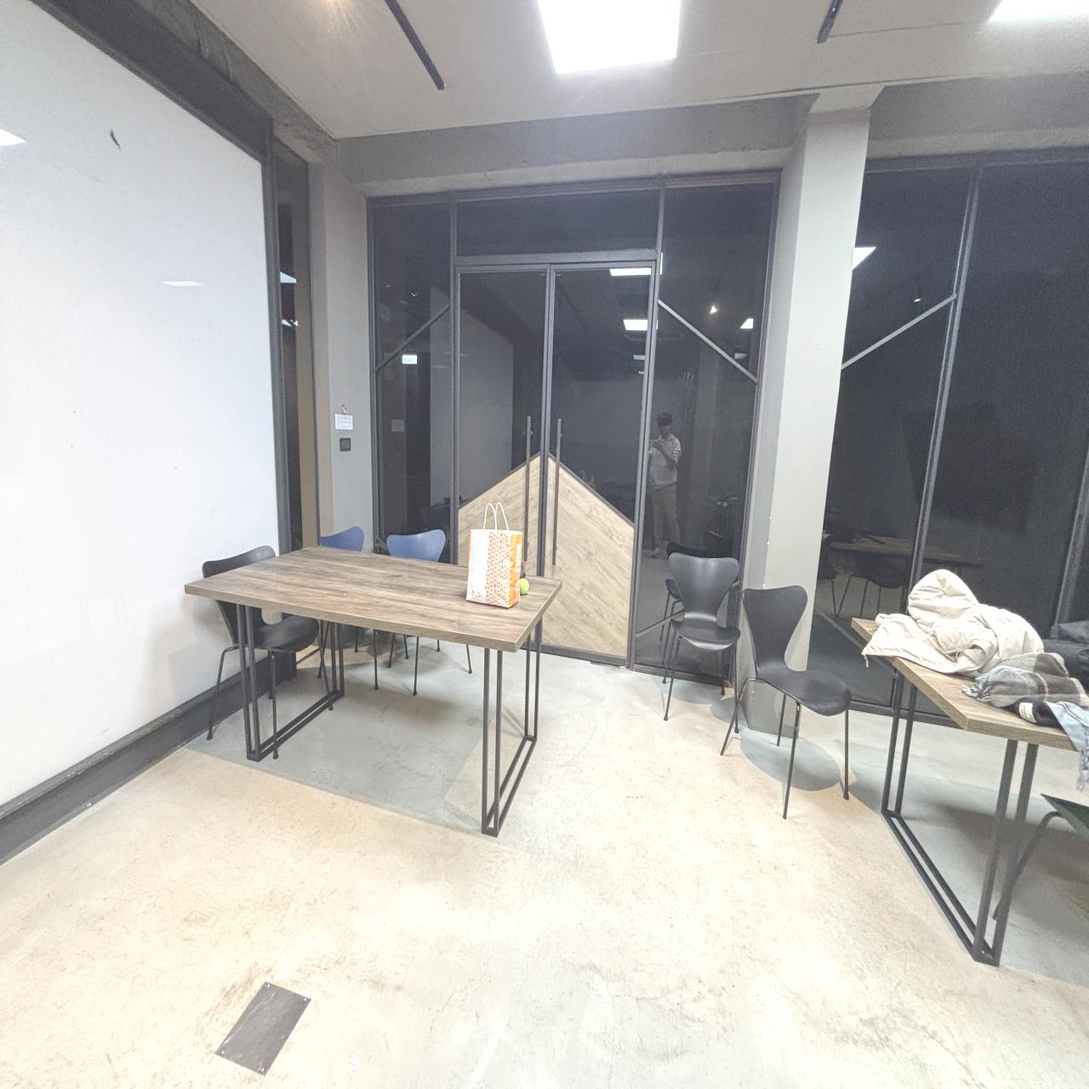tennisball: (518, 579, 529, 594)
